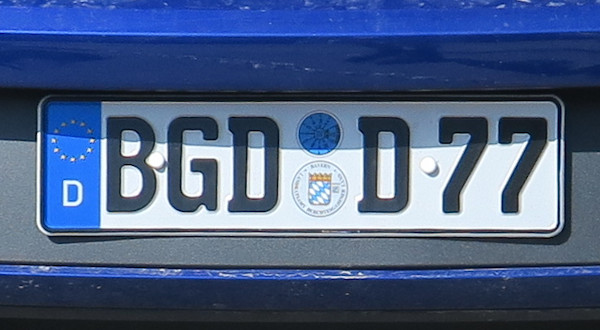license_plate: (36, 96, 566, 240)
